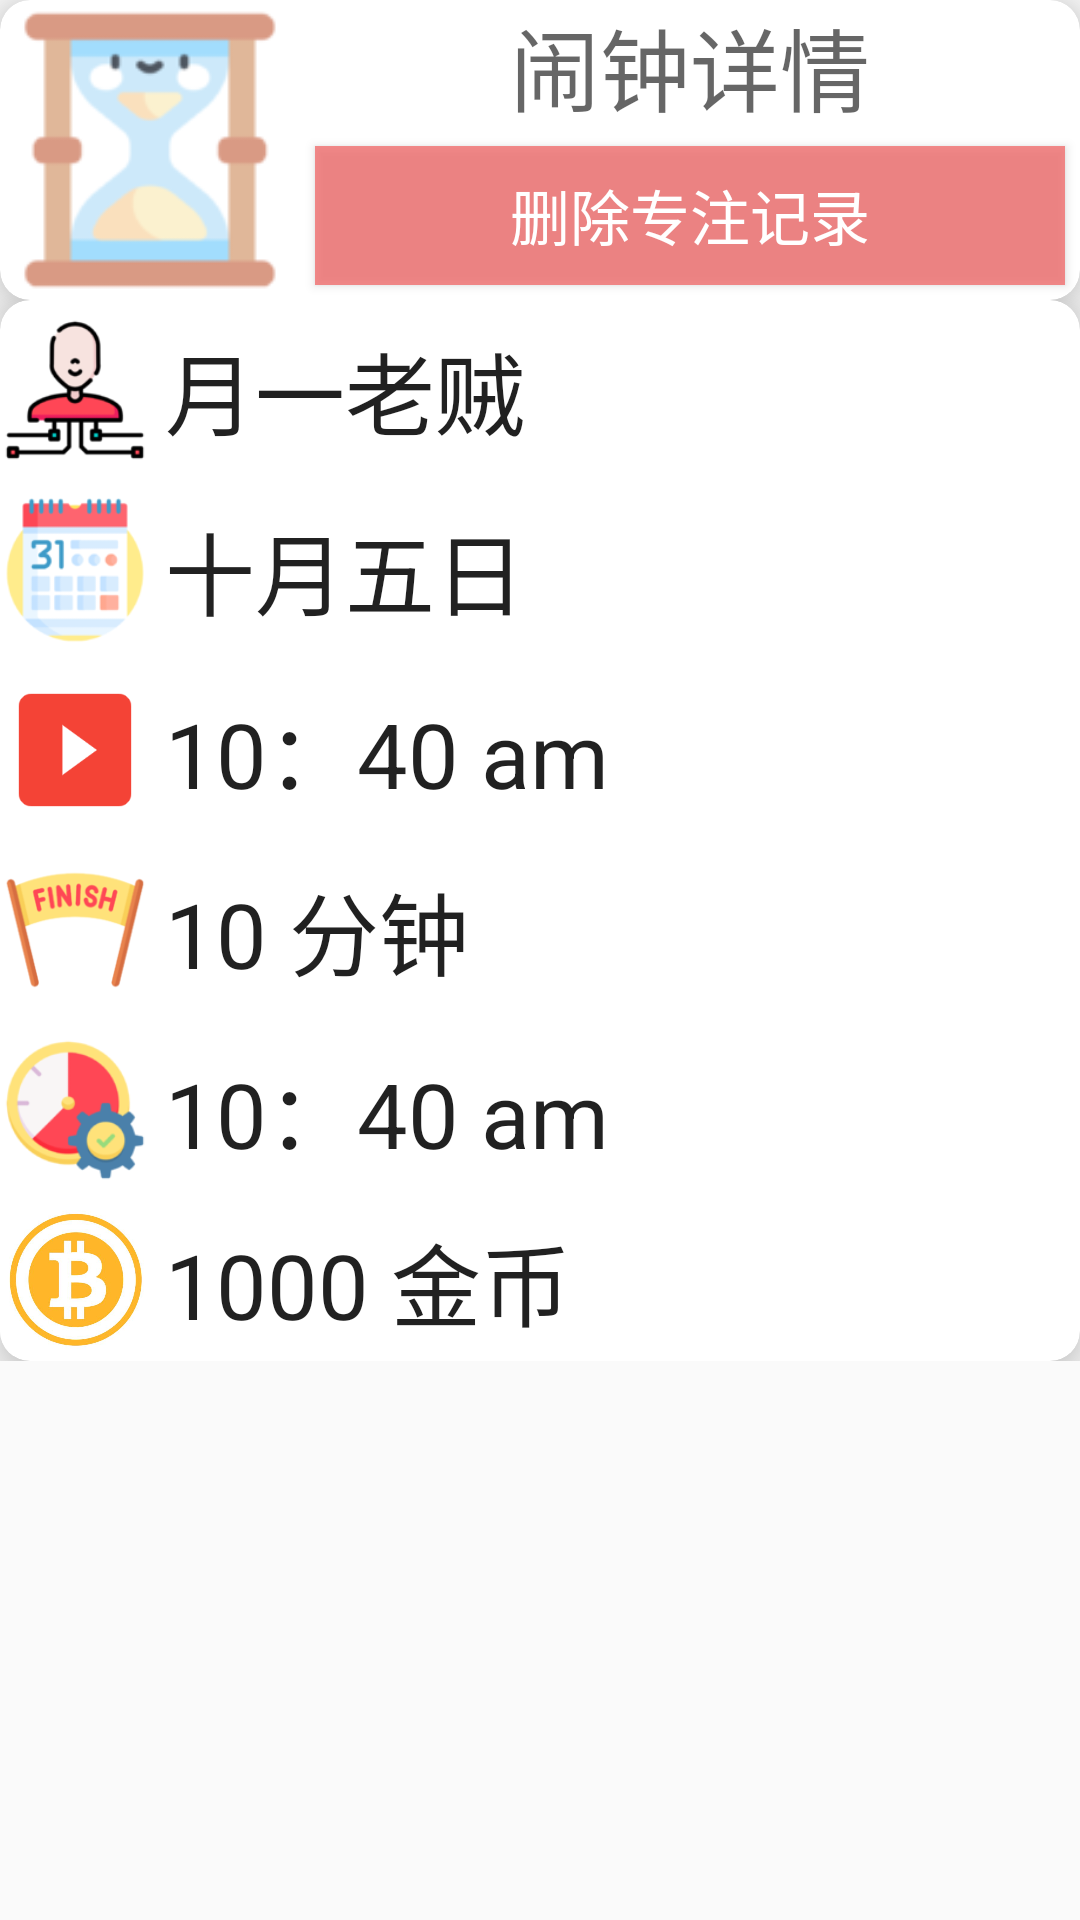

Locate icon controls on the screen. Image size 1080px×1920px, boxes as bbox=(x1, y1, x2, y2).
calendar: bbox=(6, 498, 144, 641)
hourglass: bbox=(0, 0, 276, 288)
start: bbox=(18, 693, 132, 807)
time: bbox=(6, 1041, 144, 1179)
user: bbox=(6, 321, 144, 459)
